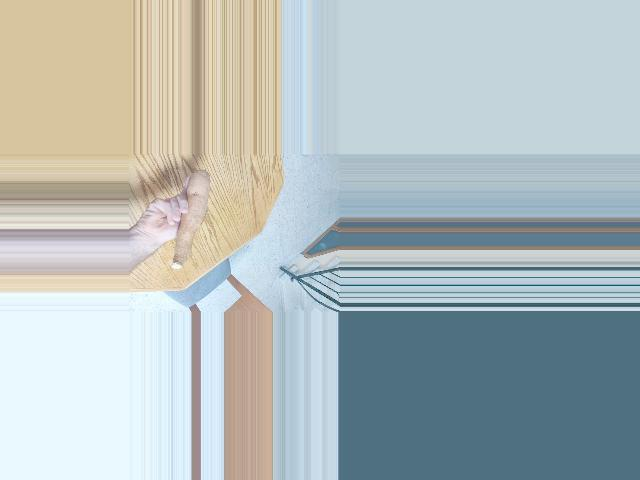sweet_potato: (168, 168, 211, 270)
